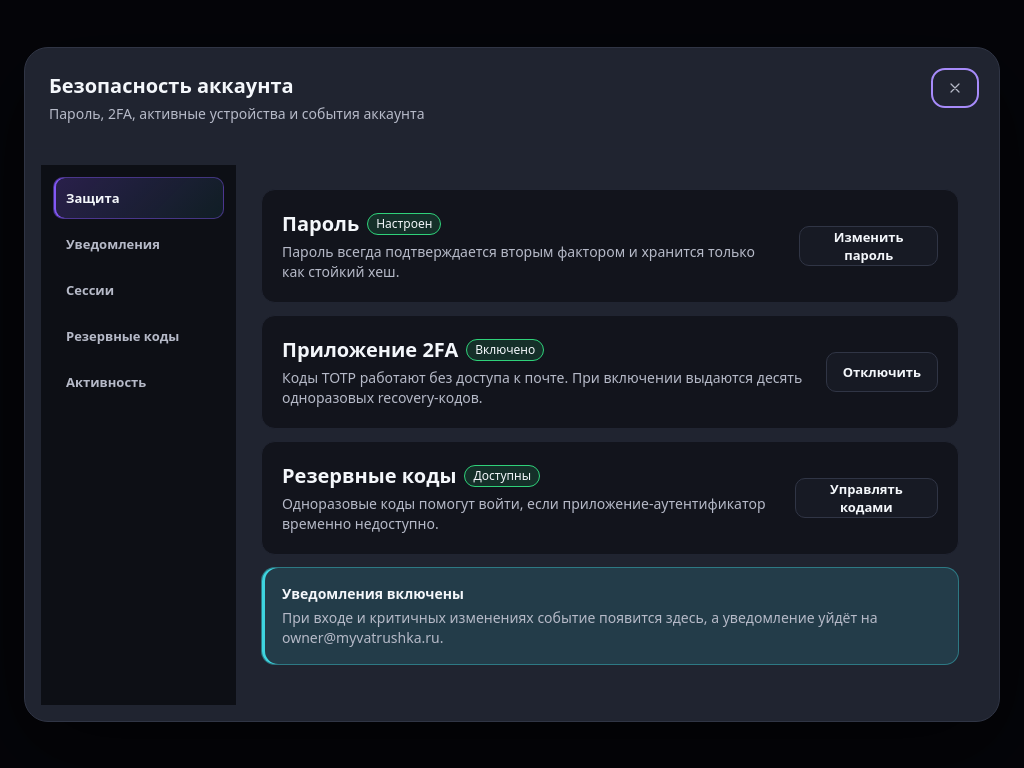
Test: SecurityCenter › shows the security activity feed
What coordinates should you click on to do the following:
click the button "Активность"
I would click on:
 (138, 382)
Its box is [53,360,224,402].
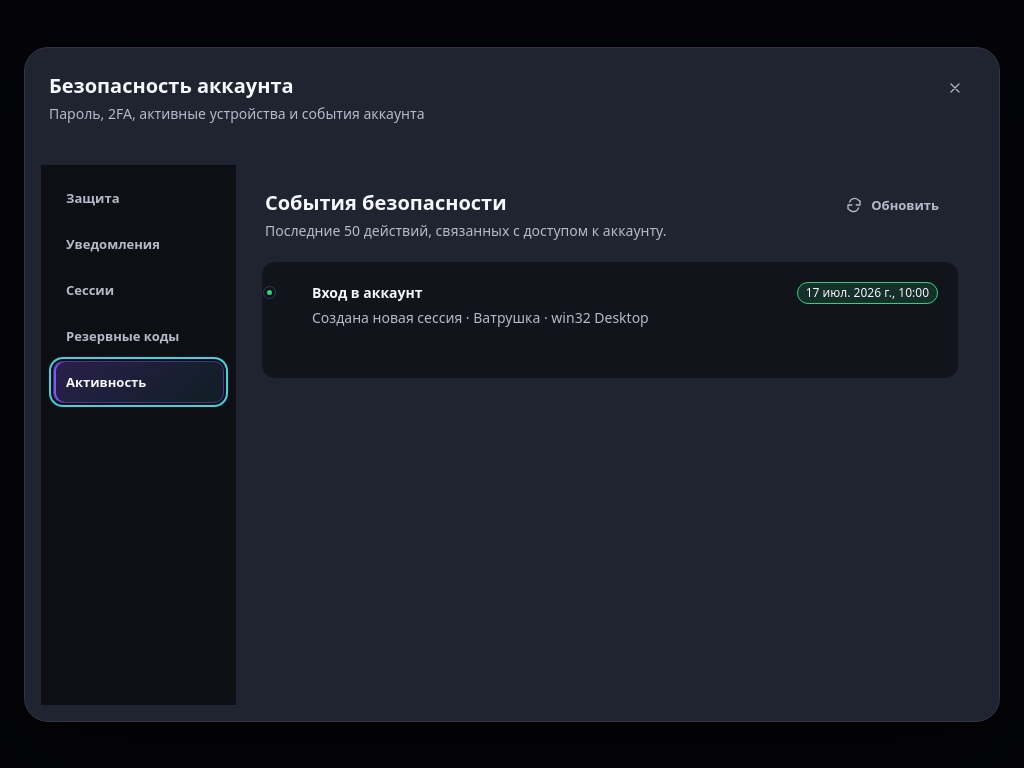
Check: the text "Вход в аккаунт" is shown, box [312,282,422,302]
Check: the text "Создана новая сессия · Ватрушка · win32 Desktop" is shown, box [312,308,649,326]
